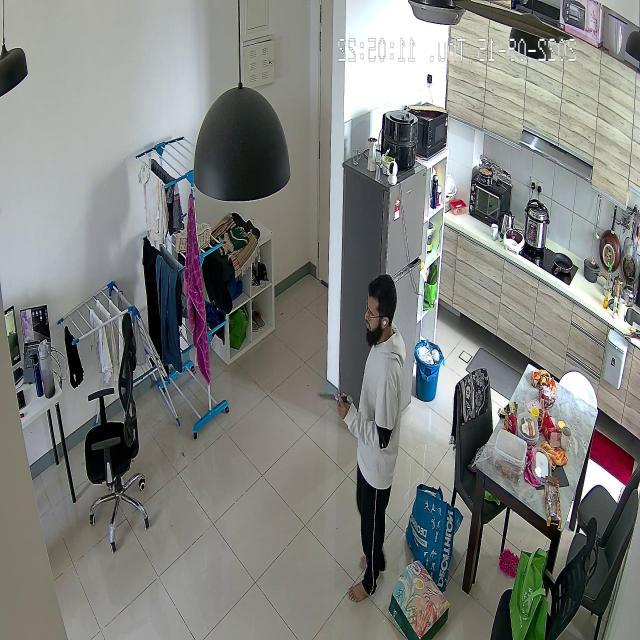Knife: (307, 378, 358, 412)
